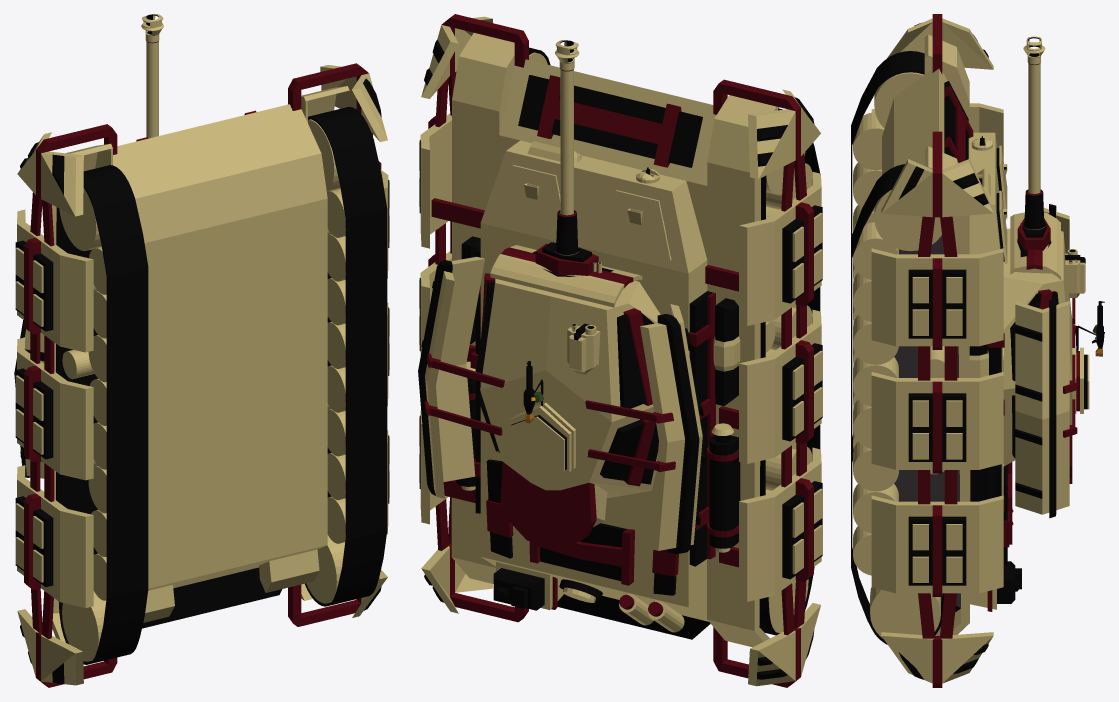
The model's file is PzX.fbx.
3 views of the same model, side by side, from view 1: azimuth 30°, elevation 25°; view 2: azimuth 150°, elevation 25°; view 3: azimuth 270°, elevation 25° (orthographic). The views are drawn at different scales.
Parts seen in each view (by area): view 1: 1TankBase, Wheel, AdditionalArmor2, 75TankGun, AdditionalArmor2T; view 2: 1TankBase, AdditionalArmor2, 0Turret, AdditionalArmor2T, AdditionalArmor, AdditionalRepairKit, DriverCover, AdditionalArmor1T, Wheel, AdditionalBrust, 50TankGunBase, GunnerCover (+4 smaller); view 3: AdditionalArmor2, Wheel, 1TankBase, AdditionalArmor2T, 0Turret, AdditionalArmor, 50TankGunBase, 75TankGun, AdditionalRepairKit, 75TankGunBase, AdditionalBrust, DriverCover (+4 smaller).
Part boxes in pixels (<box>): 1TankBase: <box>52,86,349,642</box>; Wheel: <box>56,106,387,664</box>; AdditionalArmor2: <box>15,63,389,687</box>; 75TankGun: <box>146,31,158,138</box>; AdditionalArmor2T: <box>14,320,44,478</box>; 1TankBase: <box>451,33,778,647</box>; AdditionalArmor2: <box>419,14,822,687</box>; 0Turret: <box>480,278,660,549</box>; AdditionalArmor2T: <box>418,256,705,554</box>; AdditionalArmor: <box>470,75,715,595</box>; AdditionalRepairKit: <box>455,236,740,552</box>; DriverCover: <box>494,165,671,260</box>; AdditionalArmor1T: <box>476,273,658,486</box>; Wheel: <box>529,47,820,635</box>; AdditionalBrust: <box>493,562,684,632</box>; 50TankGunBase: <box>490,242,642,307</box>; GunnerCover: <box>509,415,566,477</box>; AdditionalArmor2: <box>871,14,1003,687</box>; Wheel: <box>851,51,944,644</box>; 1TankBase: <box>882,34,1002,635</box>; AdditionalArmor2T: <box>1015,204,1077,518</box>; 0Turret: <box>1003,228,1083,483</box>; AdditionalArmor: <box>944,81,1012,564</box>; 50TankGunBase: <box>1010,212,1060,279</box>; 75TankGun: <box>1028,53,1040,193</box>; AdditionalRepairKit: <box>969,344,994,501</box>; 75TankGunBase: <box>1017,189,1051,256</box>; AdditionalBrust: <box>970,509,1021,611</box>; DriverCover: <box>996,145,1007,263</box>.
Bounding box in the file's own units: 3232 × 5206 × 2085.
